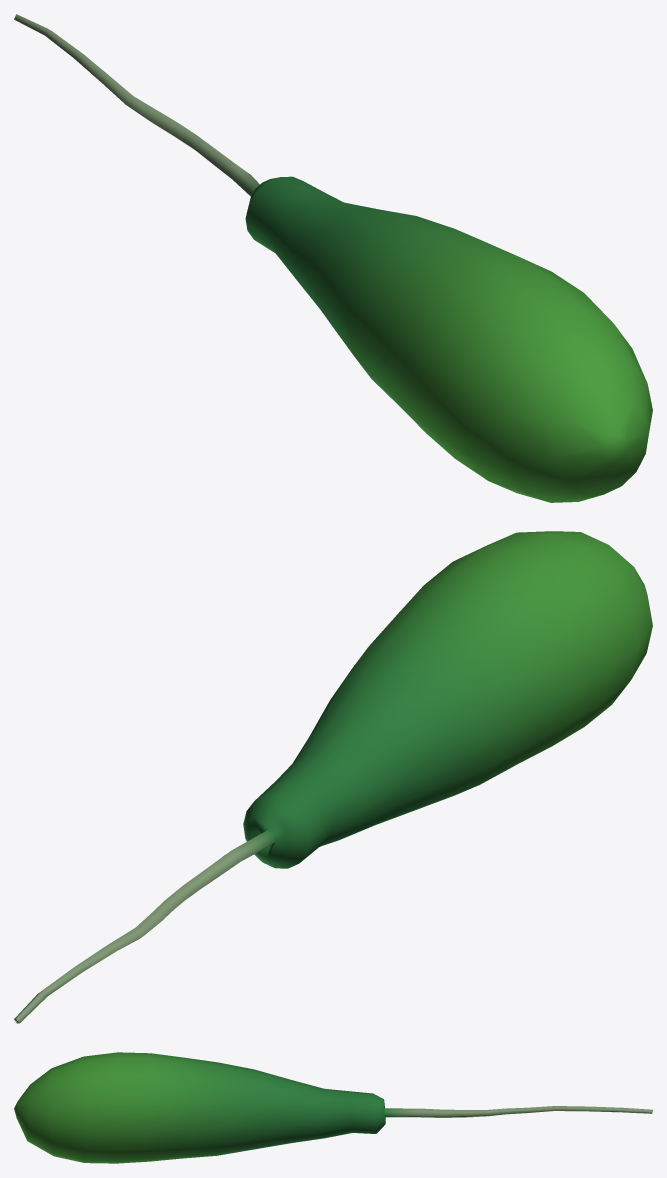
Rendered from microscopic-protists-green-swimmer_v1.glb.
3 views of the same model, one above another, from view 1: azimuth 30°, elevation 25°; view 2: azimuth 150°, elevation 25°; view 3: azimuth 270°, elevation 25° (orthographic). The views are drawn at different scales.
Parts seen in each view (by area): view 1: Green Swimmer; view 2: Green Swimmer; view 3: Green Swimmer.
Part boxes in pixels (bbox=[...]): Green Swimmer: bbox=[14, 14, 652, 502]; Green Swimmer: bbox=[14, 531, 652, 1023]; Green Swimmer: bbox=[14, 1052, 652, 1163].
Size of the model in its own units: 0.0888 by 0.0871 by 0.5.
